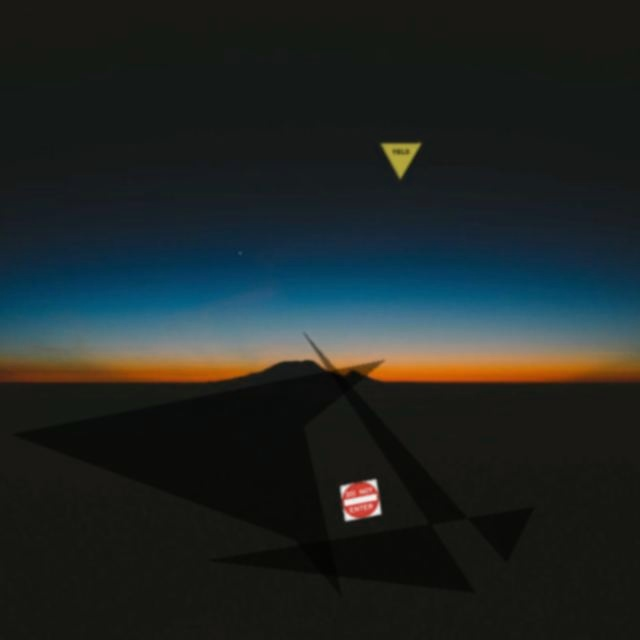DO_NOT_ENTER: (339, 478, 382, 522)
YIELD: (379, 142, 423, 181)
